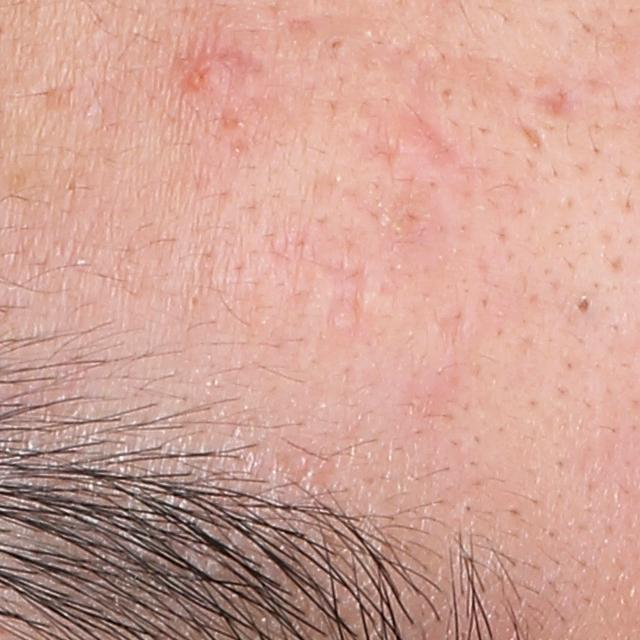atrophic_scar: (325, 263, 369, 344), (530, 87, 575, 124), (517, 118, 552, 157)
comedo: (573, 293, 591, 316)
papule: (176, 52, 226, 98)
